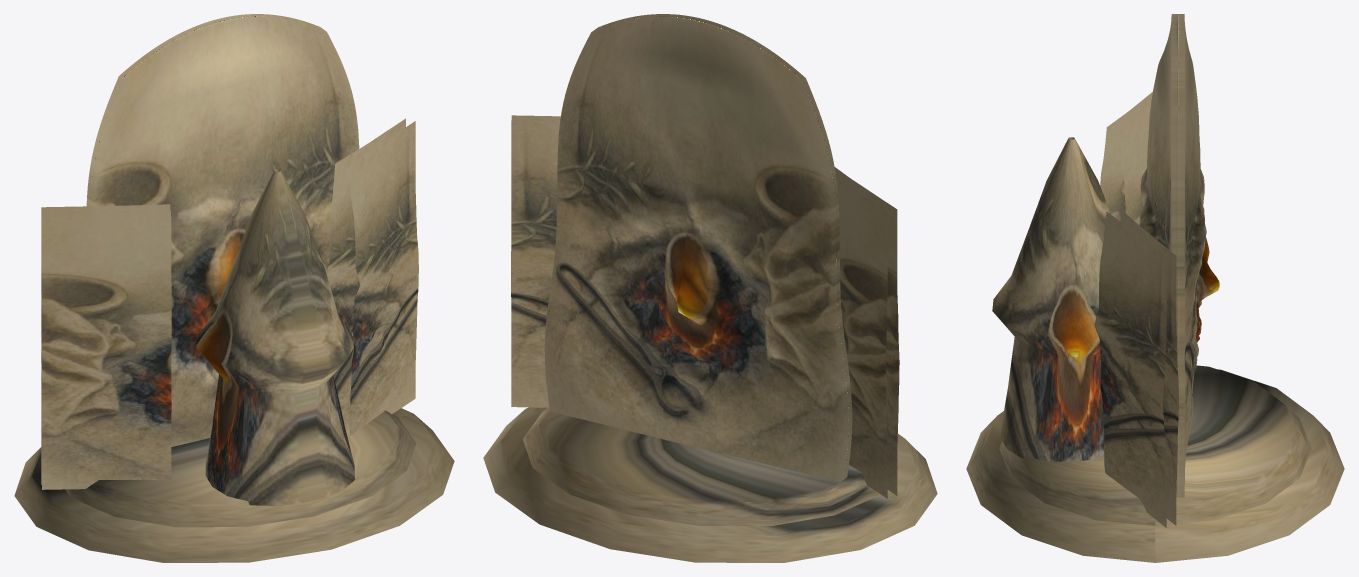
File: a-living-hope-4.glb
The picture shows the model from 3 angles, left to right: view 1: azimuth 30°, elevation 25°; view 2: azimuth 150°, elevation 25°; view 3: azimuth 270°, elevation 25°; orthographic projection. The views are drawn at different scales.
Parts seen in each view (by area): view 1: PaintingSculptureMonument; view 2: PaintingSculptureMonument; view 3: PaintingSculptureMonument.
Part boxes in pixels (x1=…): PaintingSculptureMonument: x1=14, y1=14, x2=454, y2=562; PaintingSculptureMonument: x1=483, y1=14, x2=937, y2=562; PaintingSculptureMonument: x1=966, y1=14, x2=1344, y2=562.
Bounding box in the file's own units: 2.76 × 2.99 × 2.35.
1 material, 1 textured.
